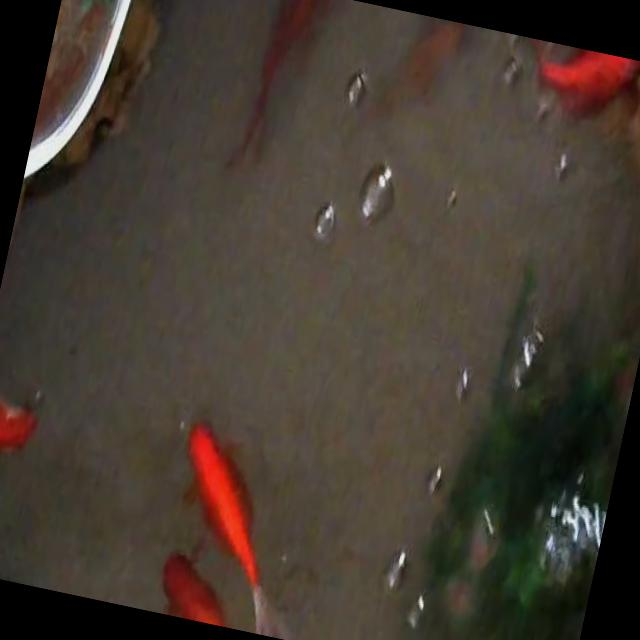fish: (158, 416, 296, 600), (225, 0, 331, 181), (368, 8, 464, 131), (151, 543, 277, 635), (525, 39, 640, 125), (0, 311, 60, 460)
